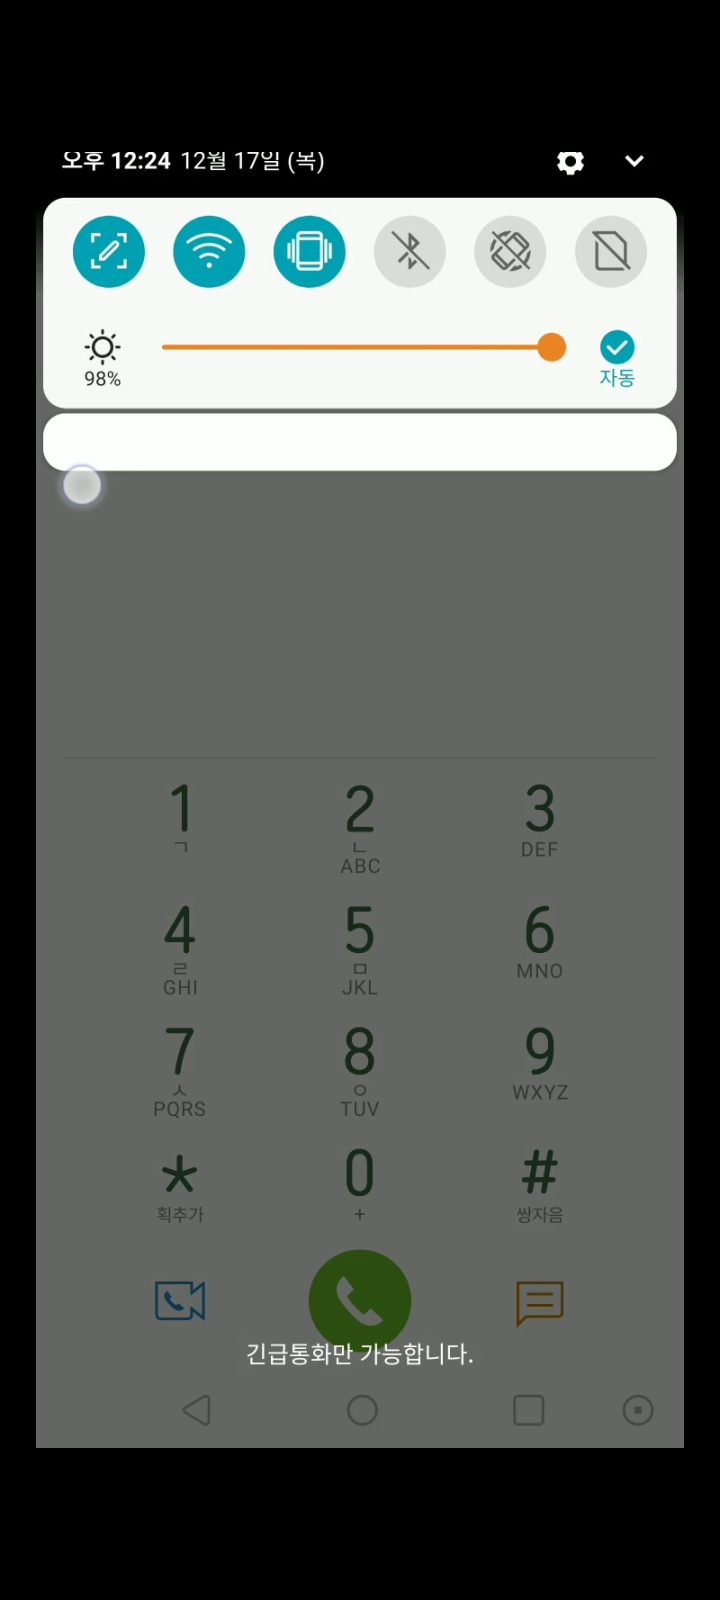Cursor: (61, 461, 106, 506)
